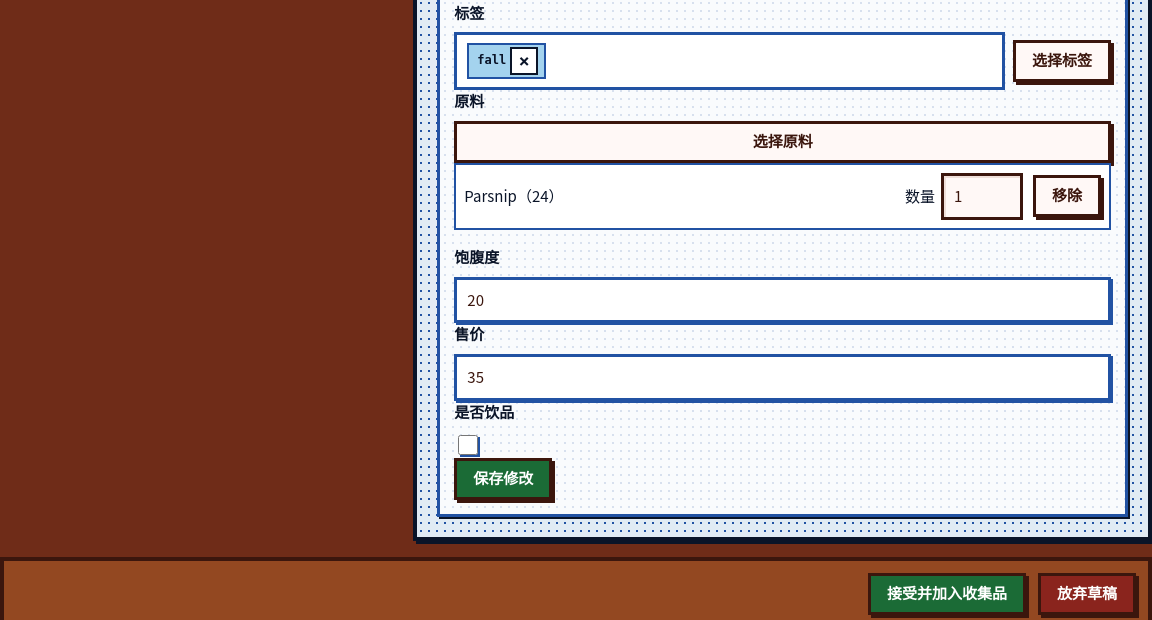
blueprint editor › shows a stale preview banner when PATCH returns STALE_PREVIEW
(page scrolled)
Click the button "保存修改" at (503, 478), box x1=454 y1=458 x2=552 y2=500
(page scrolled)
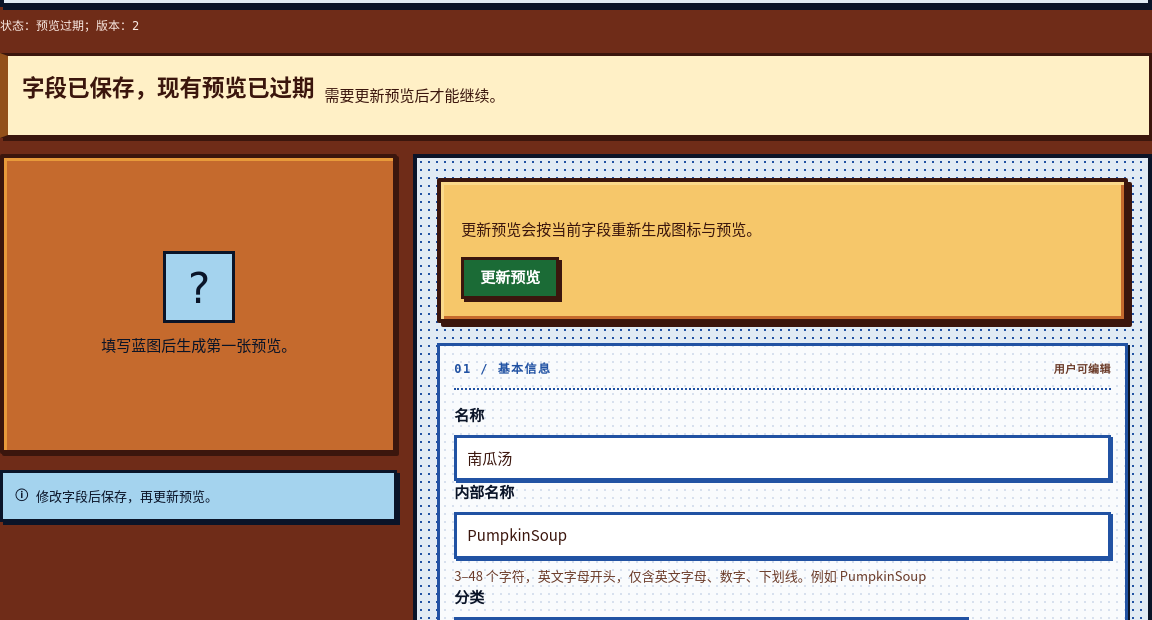
Expected: the heading "字段已保存，现有预览已过期" is shown, x1=22 y1=68 x2=314 y2=105
